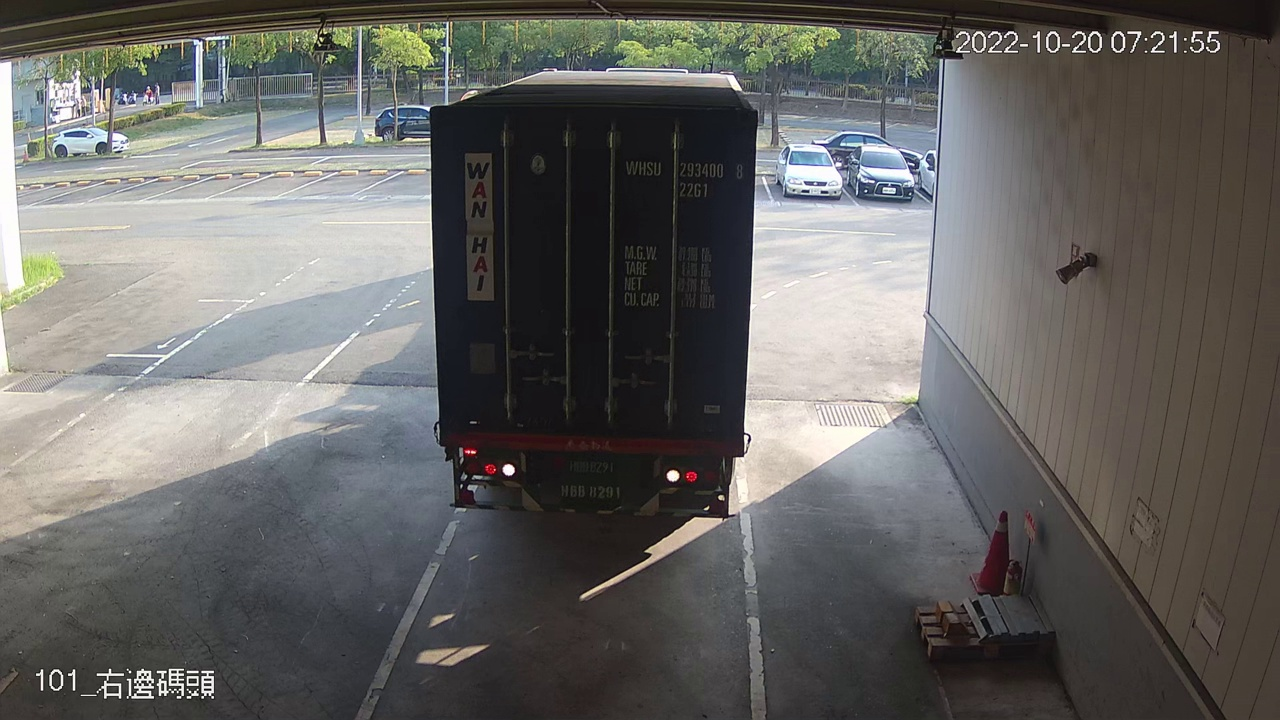container: (619, 152, 749, 204)
